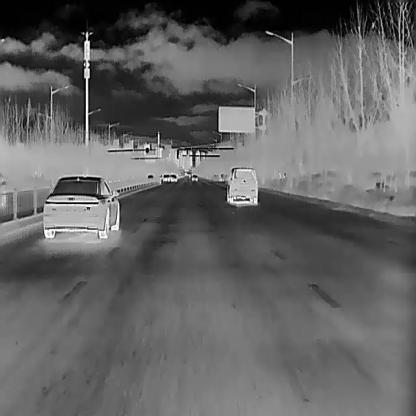car: (42, 174, 119, 237), (225, 166, 257, 206), (162, 173, 169, 181), (190, 173, 197, 180), (169, 173, 176, 180), (146, 173, 153, 178)
